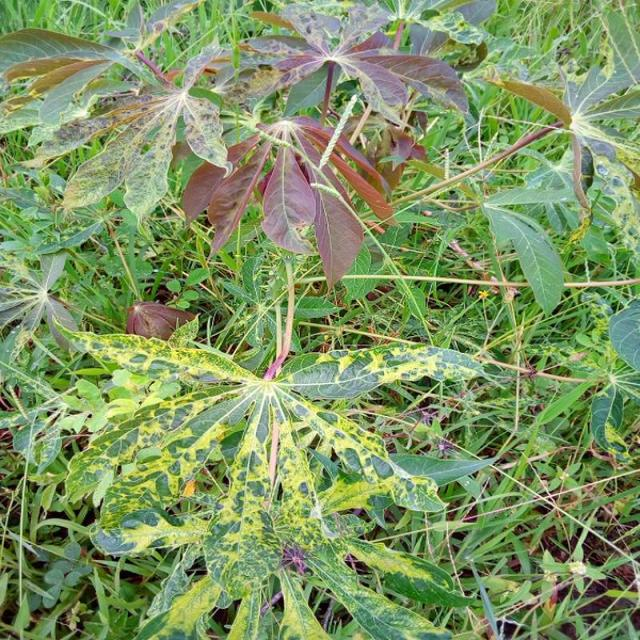cassava leaf: (55, 310, 500, 637)
